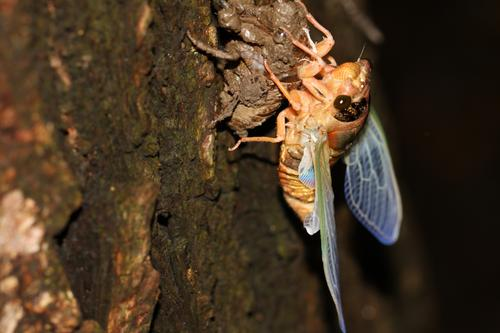chan: (246, 47, 416, 274)
